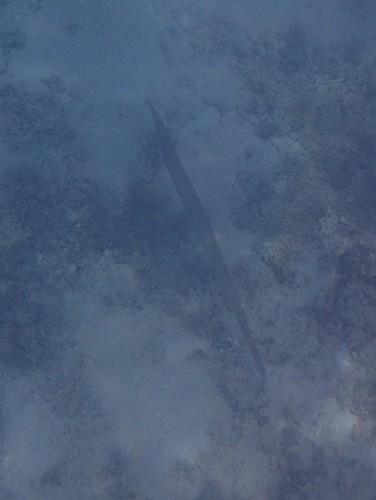Fistularia commersonii: (102, 63, 284, 419)
